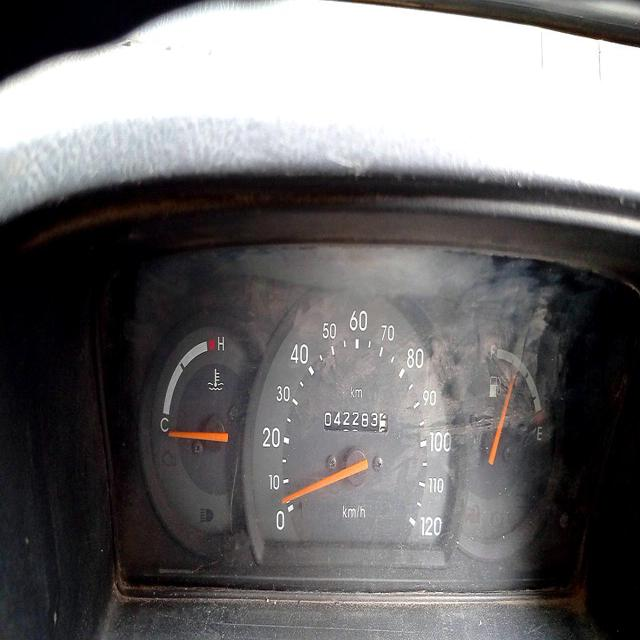odometer: (324, 408, 386, 438)
